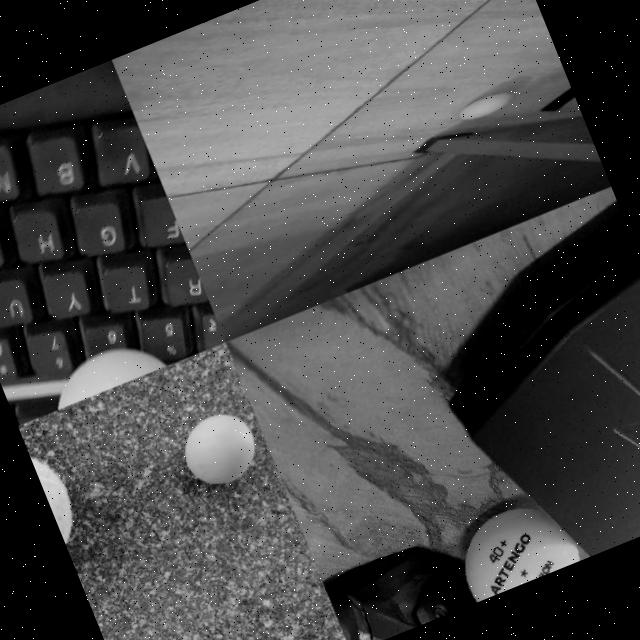ping-pong-ball: (446, 490, 582, 603), (36, 328, 176, 413), (178, 405, 268, 492), (461, 89, 513, 122)
